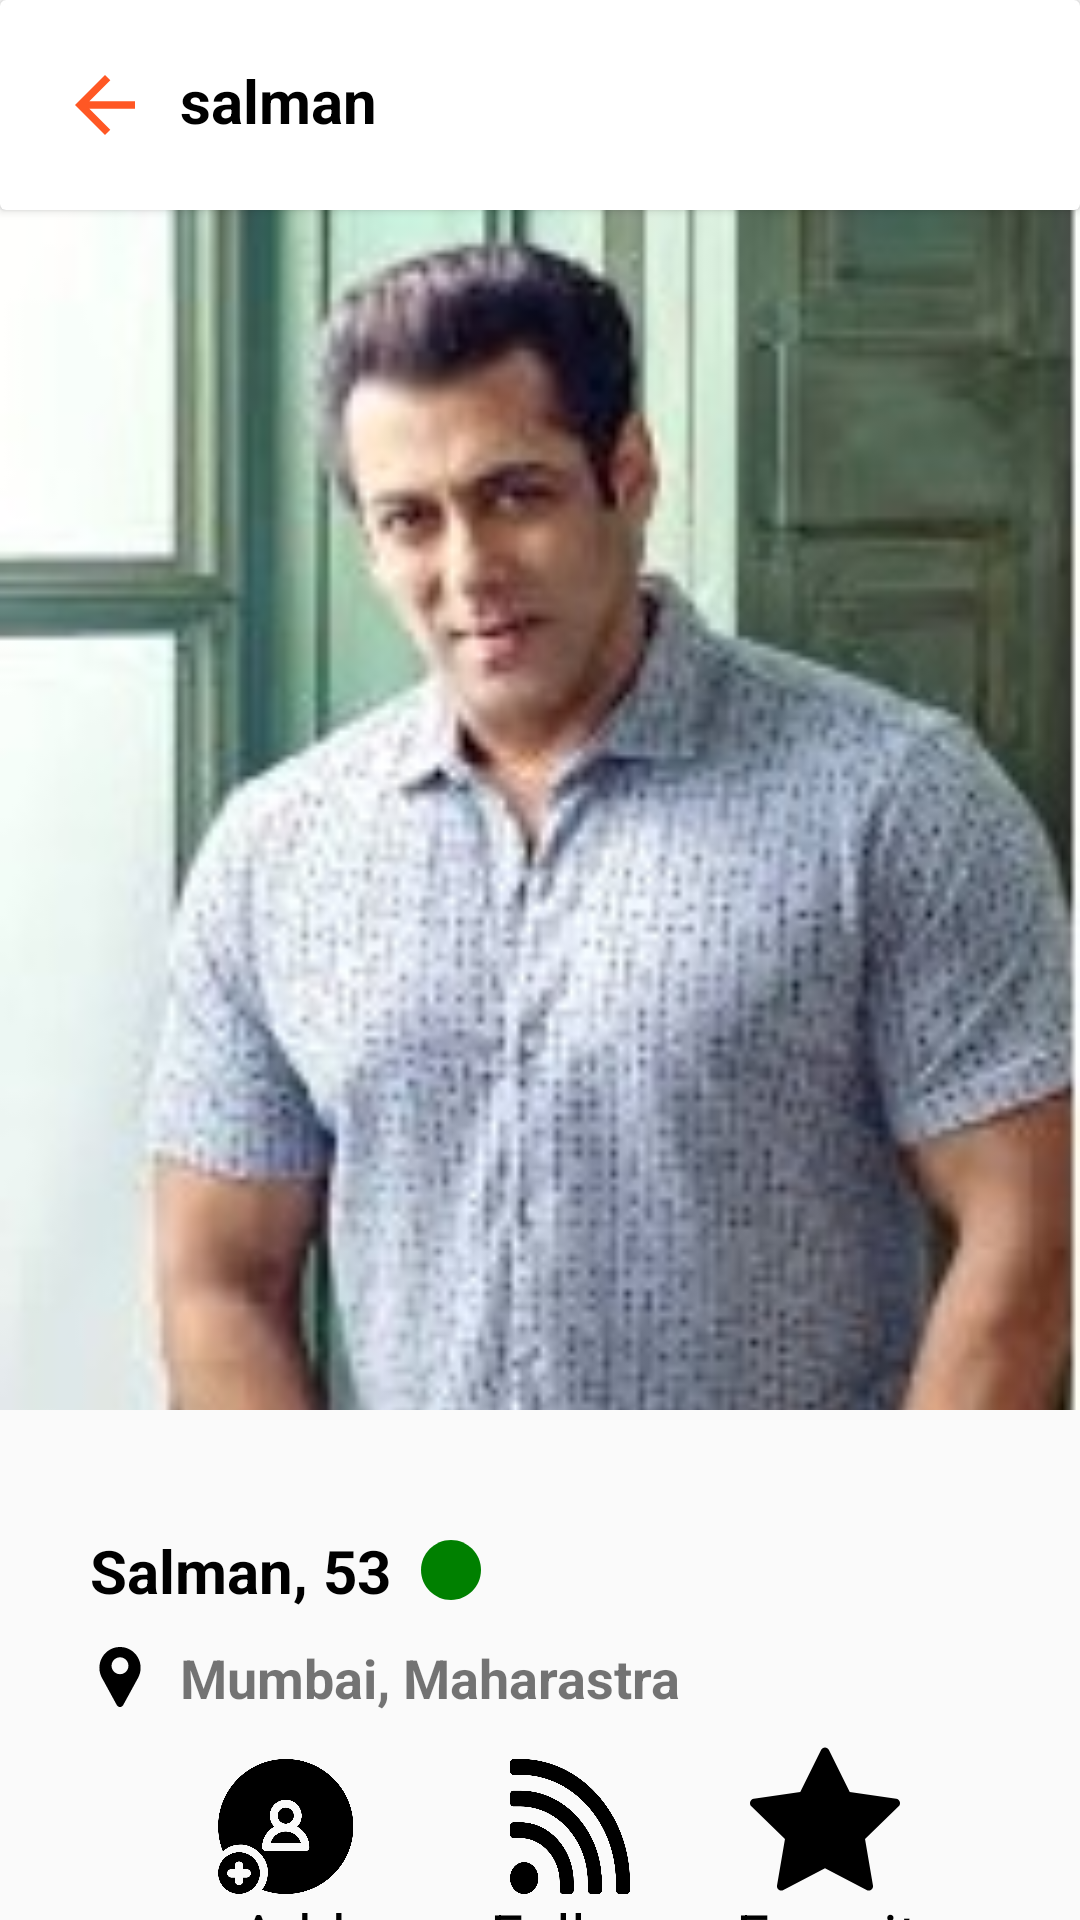

Icon click points for this 1080px x 1920px phone screenshot, format point (x, y):
add friend: point (285, 1826)
arrow back: point (105, 105)
star: point (825, 1819)
